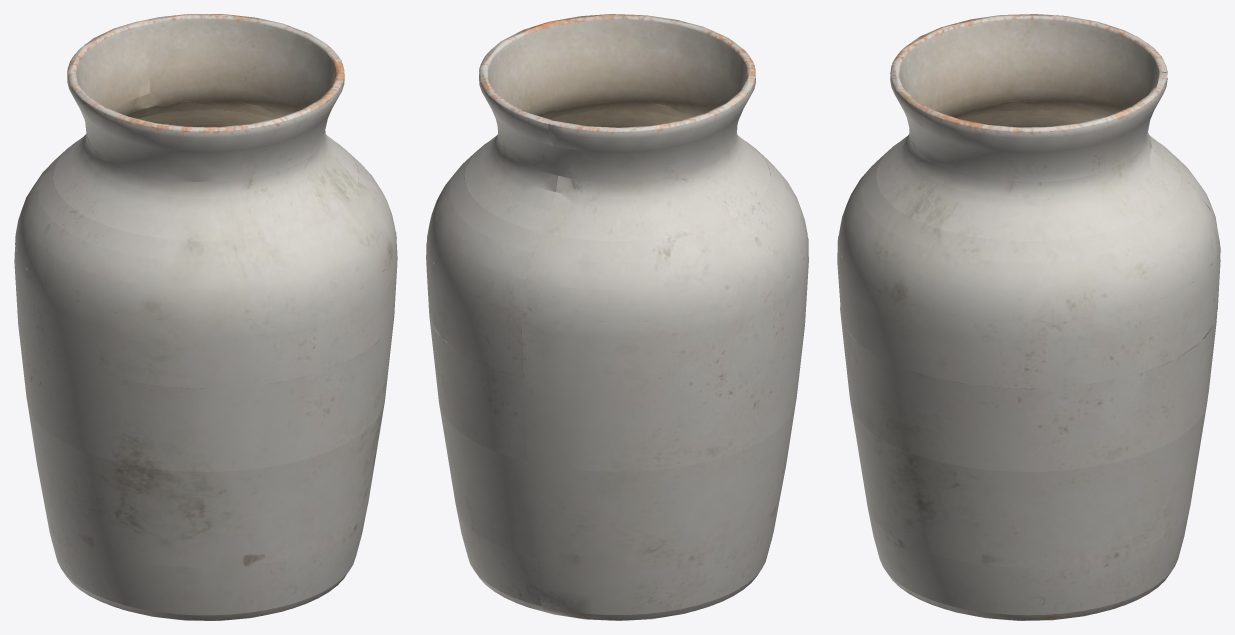
The picture shows the model from 3 angles, left to right: view 1: azimuth 30°, elevation 25°; view 2: azimuth 150°, elevation 25°; view 3: azimuth 270°, elevation 25°; orthographic projection.
Visible parts, largest first — view 1: ceramic_vase_02.001; view 2: ceramic_vase_02.001; view 3: ceramic_vase_02.001.
Part boxes in pixels (<box>): ceramic_vase_02.001: <box>14,14,397,620</box>; ceramic_vase_02.001: <box>426,14,808,620</box>; ceramic_vase_02.001: <box>837,14,1220,620</box>.
Bounding box in the file's own units: 0.2184 × 0.3091 × 0.2186.
Materials: 1 (1 with a texture image).
